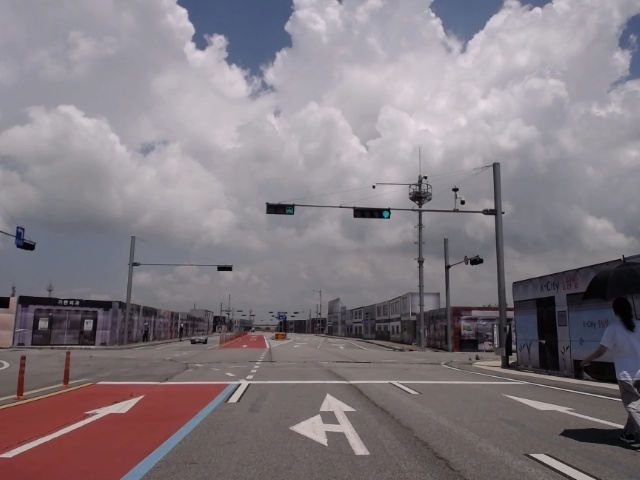straight_green_4: (353, 208, 391, 218)
